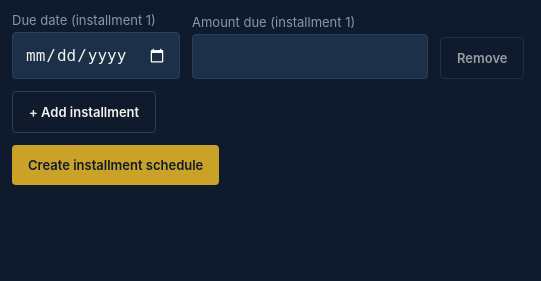
Test: CreateInstallmentScheduleForm › adds and removes installment rows, disabling Remove when only one remains
Expected: the button "Remove" is disabled, [440,37,524,79]
Step 1. Click the button "+ Add installment" → click(84, 112), box [12,91,156,133]
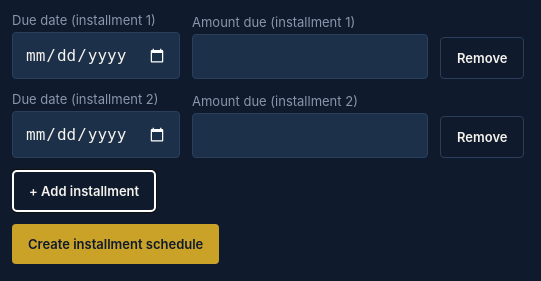
Result: the date field labelled "Due date (installment 2)" is shown at [12,111,180,158]
Result: the button "Remove" below "Amount due (installment 1)" is enabled at [440,37,524,79]
Step 2. Click the button "Remove" below "Amount due (installment 2)" → click(482, 137), box [440,116,524,158]
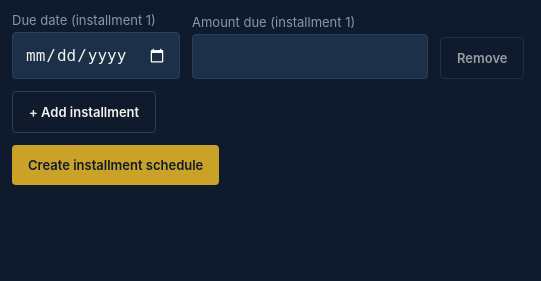
Result: the label labelled "Due date (installment 2)" is gone
Result: the button "Remove" is disabled at [440,37,524,79]
